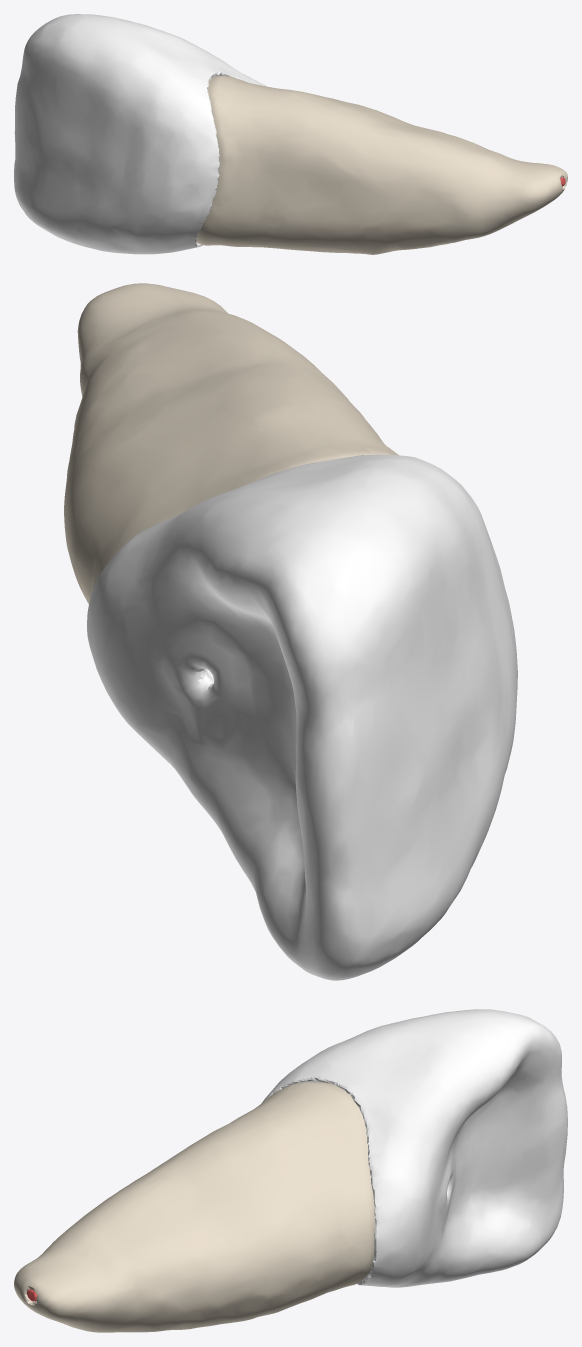
Rendered from 牙内陷2.fbx.
3 views of the same model, one above another, from view 1: azimuth 30°, elevation 25°; view 2: azimuth 150°, elevation 25°; view 3: azimuth 270°, elevation 25° (orthographic). The views are drawn at different scales.
Parts seen in each view (by area): view 1: texture_B, texture_W; view 2: texture_W, texture_B; view 3: texture_B, texture_W.
Part boxes in pixels (x1=…): texture_B: x1=196, y1=76, x2=567, y2=254; texture_W: x1=14, y1=14, x2=266, y2=254; texture_W: x1=87, y1=454, x2=517, y2=980; texture_B: x1=64, y1=283, x2=398, y2=603; texture_B: x1=14, y1=1082, x2=375, y2=1332; texture_W: x1=261, y1=1009, x2=567, y2=1287.
Bounding box in the file's own units: 20.86 × 12 × 23.58.
3 materials, 3 textured.
